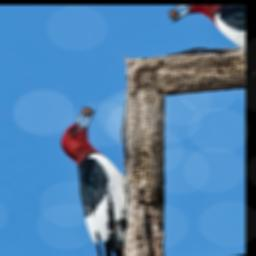Woodpecker: (11, 99, 184, 256)
